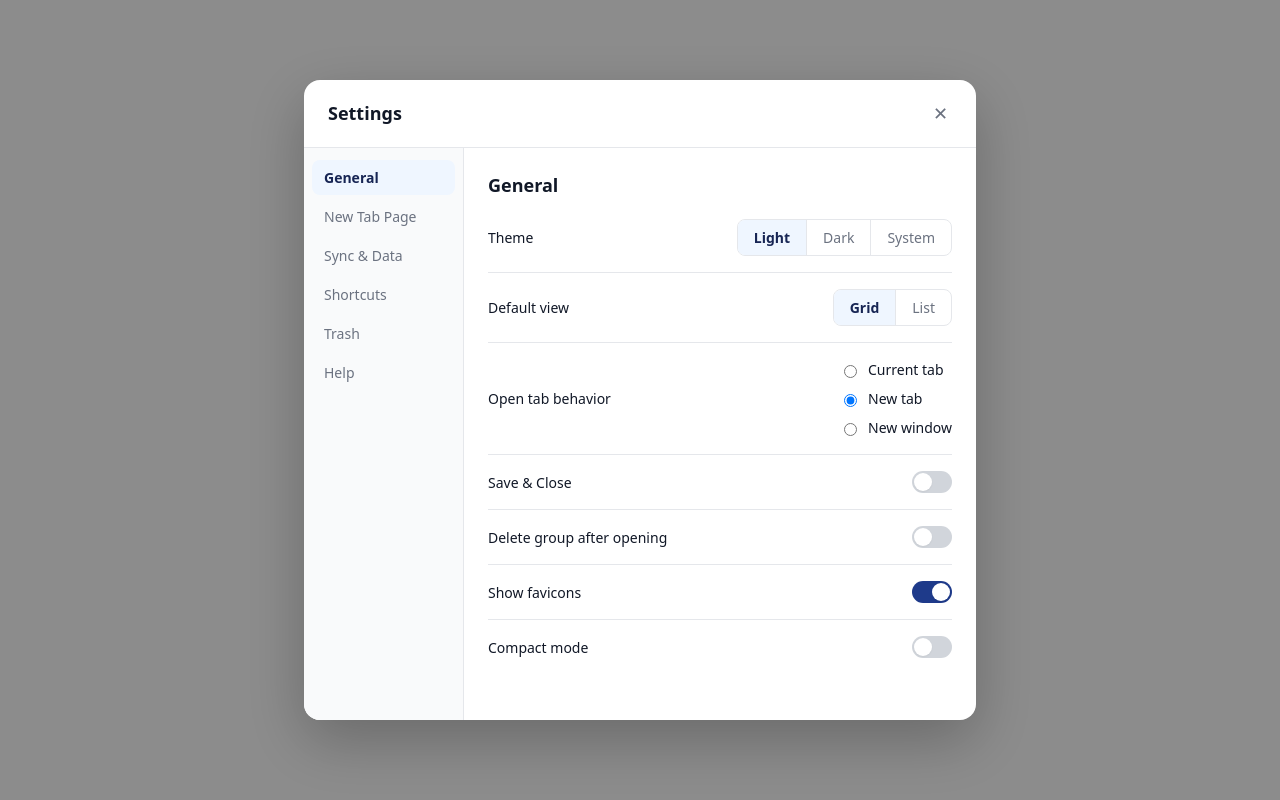
SettingsModal › switches the visible panel when another tab is clicked
Click the tab "Trash": point(384, 334) x1=312 y1=316 x2=455 y2=351
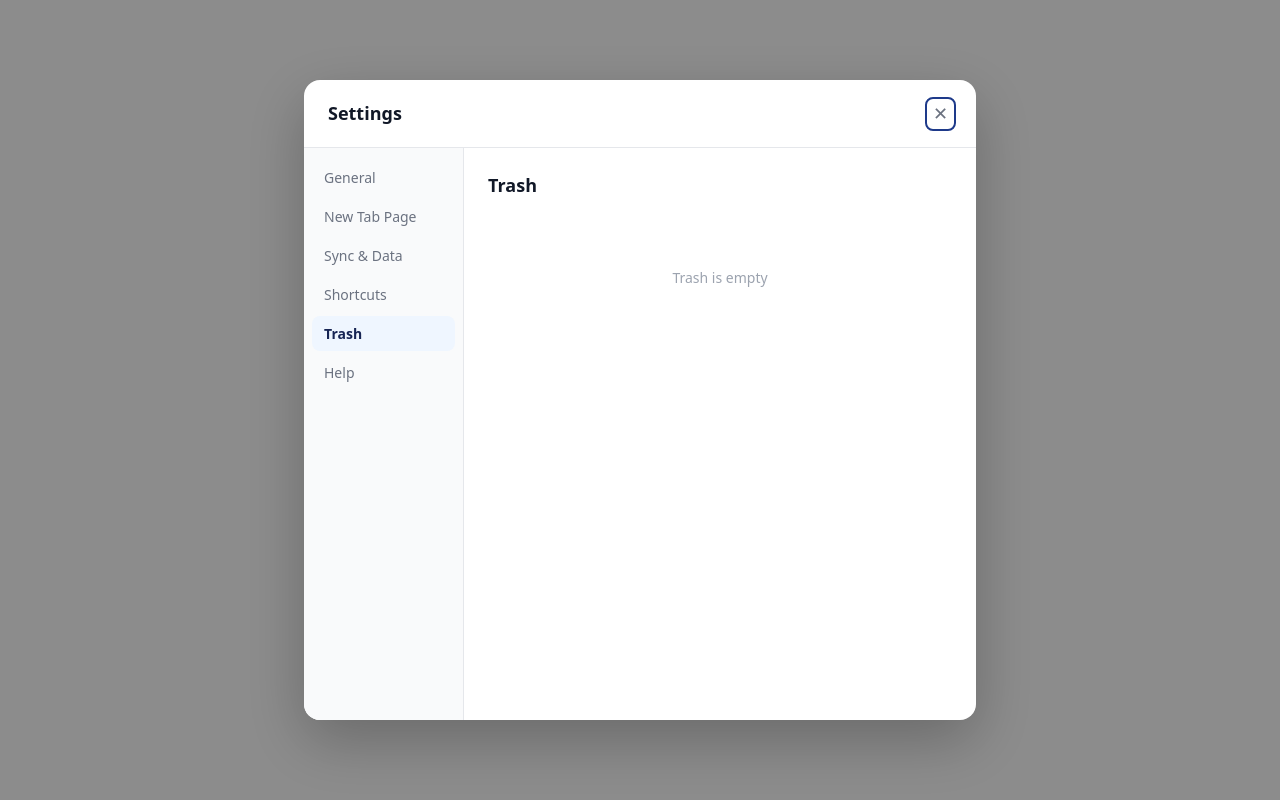
Expected: the text "Trash is empty" is shown, x1=672 y1=268 x2=768 y2=287
